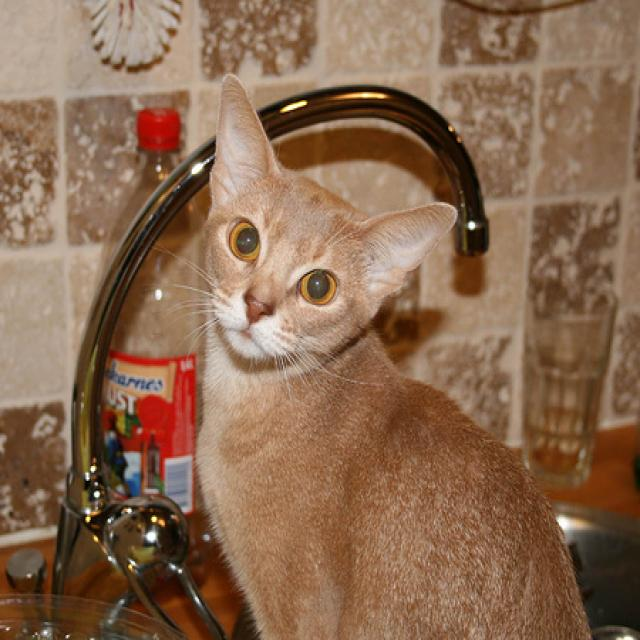Abyssinian: (187, 64, 608, 640)
